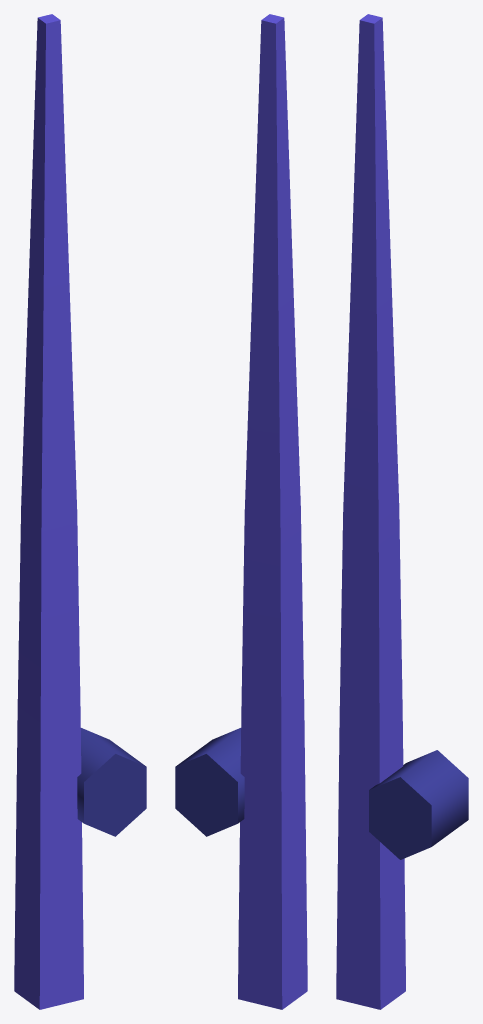
File: Prop_fishingRod.FBX
3 views of the same model, side by side, from view 1: azimuth 30°, elevation 25°; view 2: azimuth 150°, elevation 25°; view 3: azimuth 330°, elevation 25° (orthographic).
Visible parts, largest first — view 1: Prop_fishingRod; view 2: Prop_fishingRod; view 3: Prop_fishingRod.
Boxes of the visible parts, box(x1,y1,x2,y2) form: Prop_fishingRod: box(14, 14, 146, 1009); Prop_fishingRod: box(175, 14, 307, 1009); Prop_fishingRod: box(336, 14, 468, 1009).
Bounding box in the file's own units: 10.36 × 95.47 × 6.57.
